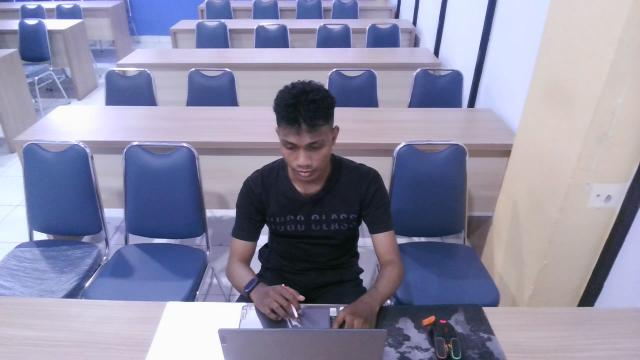Normal_Writing: (186, 72, 417, 360)
